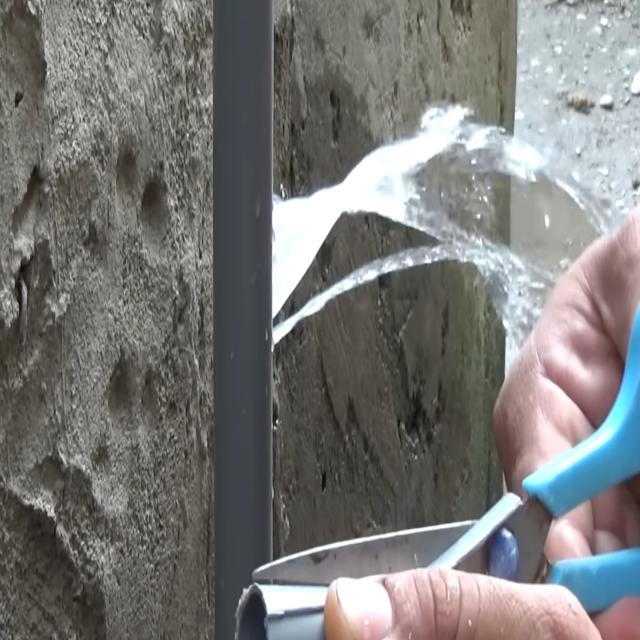leak: (272, 104, 599, 366)
